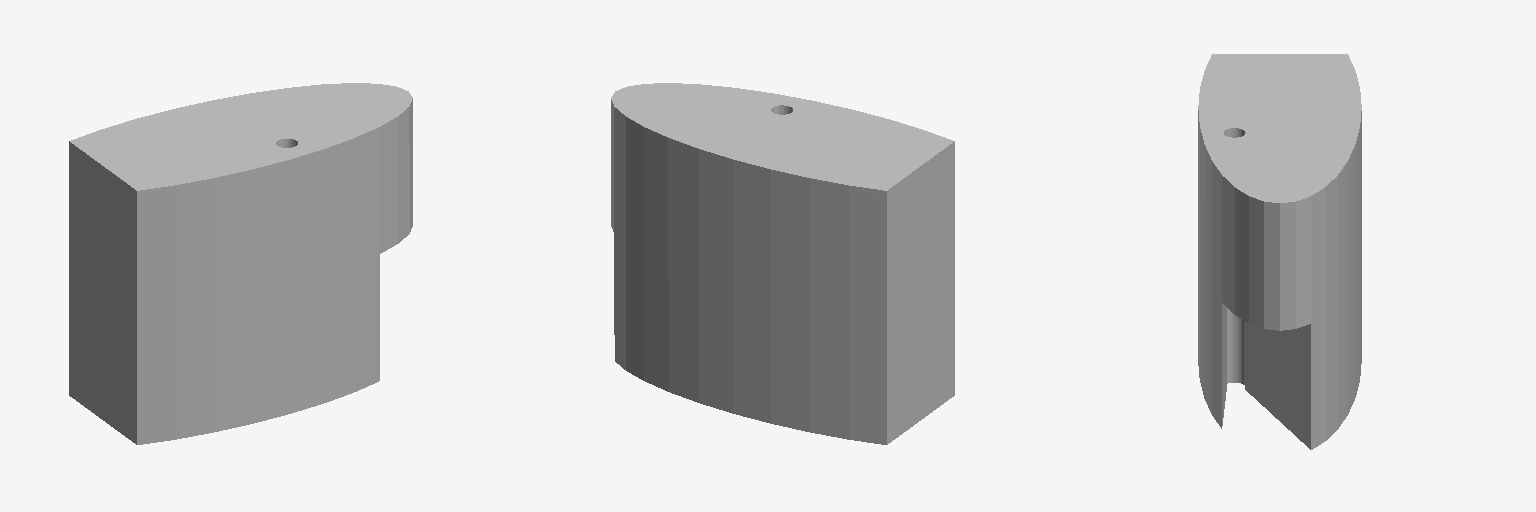
Rendered from deepCutTest.obj.
The picture shows the model from 3 angles: view 1: azimuth 30°, elevation 25°; view 2: azimuth 150°, elevation 25°; view 3: azimuth 270°, elevation 25°; orthographic projection.
Size of the model in its own units: 5.15 by 4.1 by 2.39.